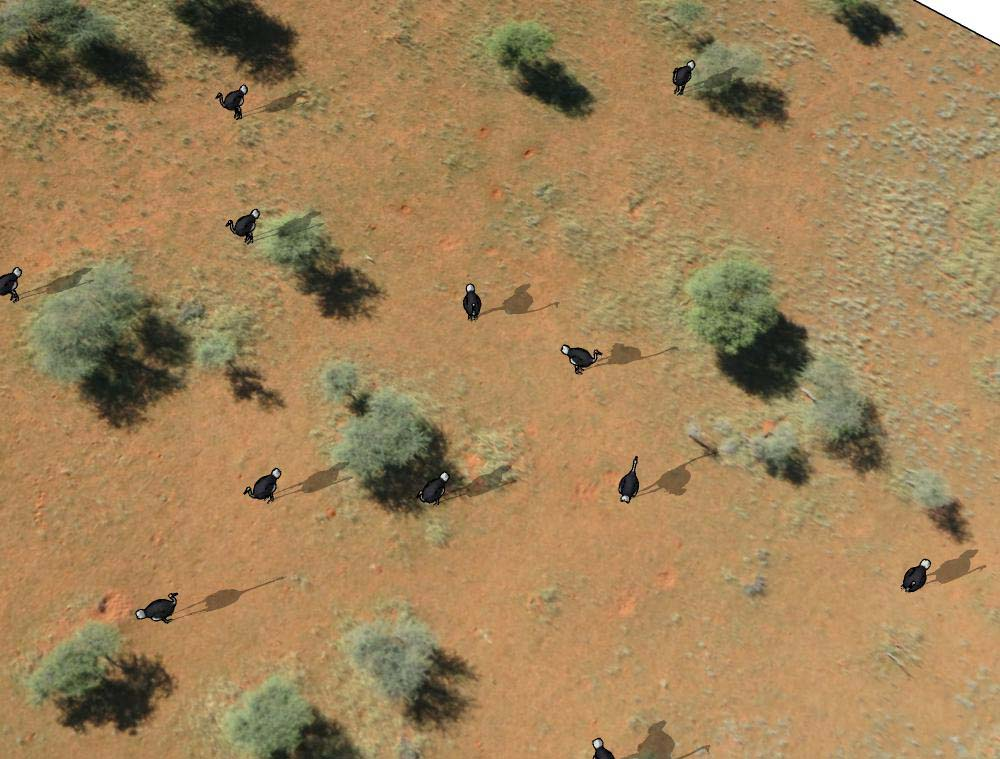springbok: (134, 586, 181, 628), (220, 207, 265, 243), (239, 468, 285, 503), (560, 337, 603, 374), (216, 81, 252, 121), (414, 470, 451, 508), (616, 455, 644, 504), (459, 281, 491, 322), (900, 557, 933, 594), (1, 265, 27, 302), (670, 63, 696, 95), (585, 734, 614, 759)
